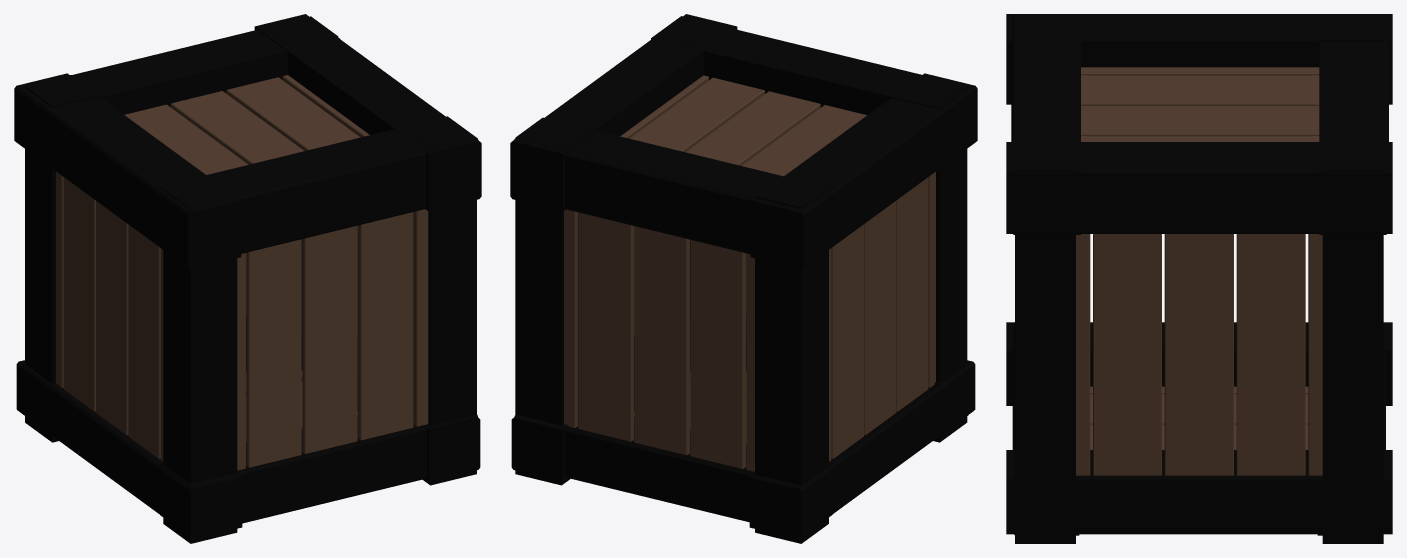
Rendered from Crate.fbx.
3 renders of one model, left to right at view 1: azimuth 30°, elevation 25°; view 2: azimuth 150°, elevation 25°; view 3: azimuth 270°, elevation 25°, orthographic. The views are drawn at different scales.
Visible parts, largest first — view 1: Crate; view 2: Crate; view 3: Crate.
Part boxes in pixels (left/top/right/bottom): Crate: left=14, top=14, right=481, bottom=543; Crate: left=510, top=14, right=977, bottom=543; Crate: left=1006, top=14, right=1392, bottom=543.
Size of the model in its own units: 0.5196 by 0.5697 by 0.5336.
